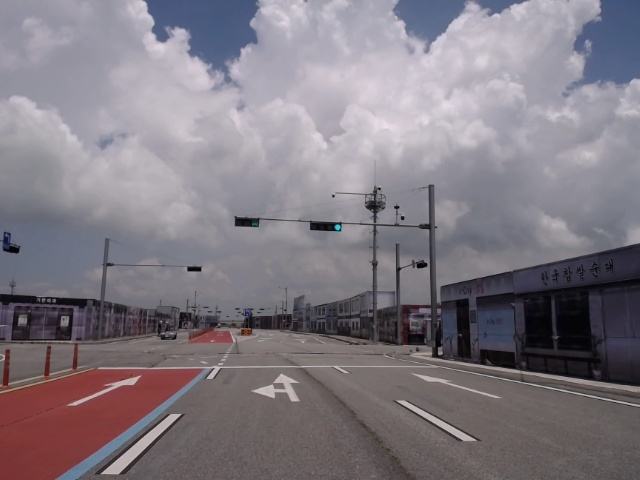straight_green_4: (310, 221, 341, 232)
